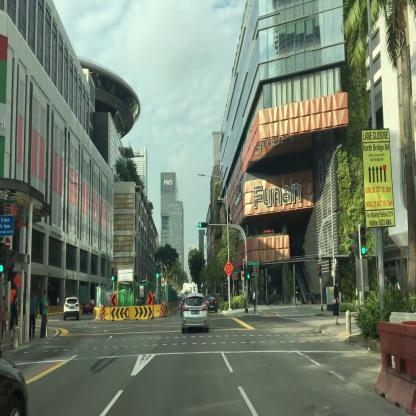green_traffic_light: (360, 226, 366, 254), (198, 221, 208, 227), (111, 268, 114, 280), (247, 266, 249, 279), (156, 265, 158, 277)
